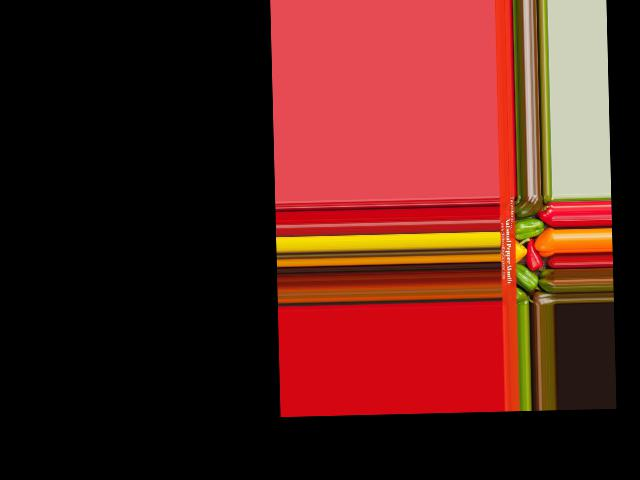bell_pepper: (514, 195, 542, 217)
